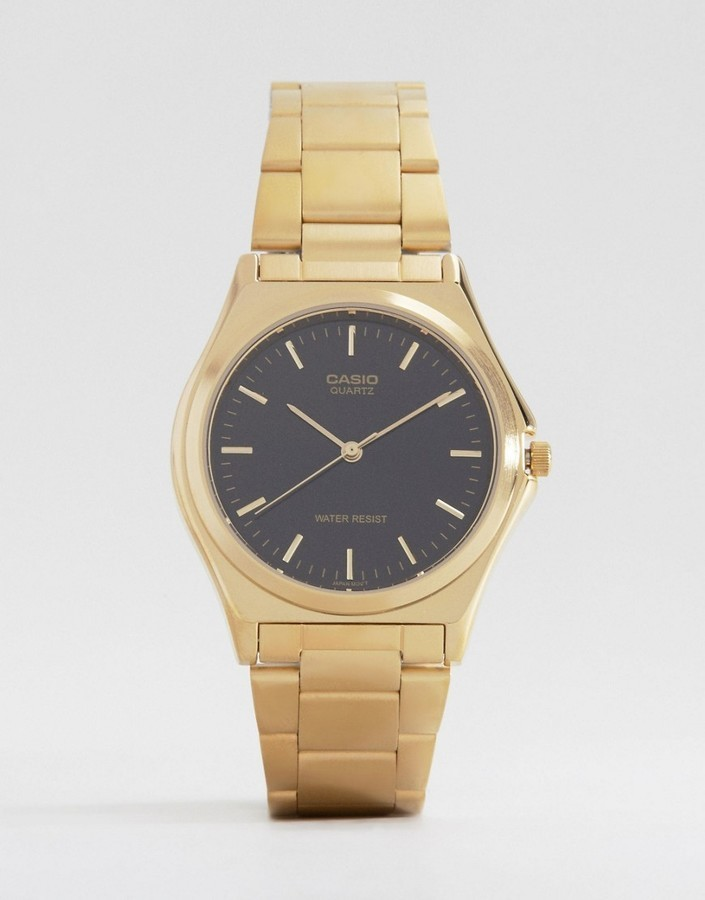clock: (150, 281, 555, 624)
